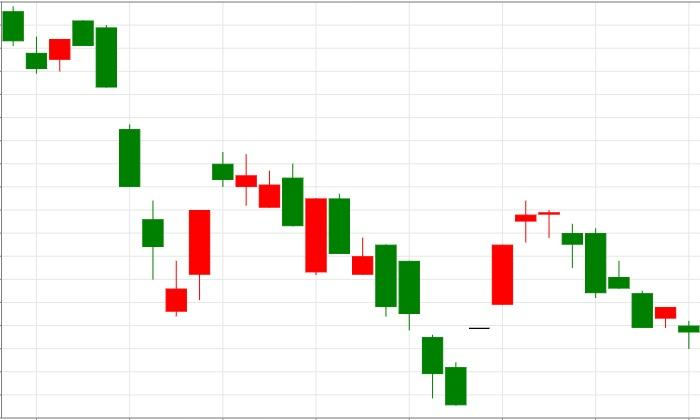three_black_crows_fall: (25, 20, 165, 280)
